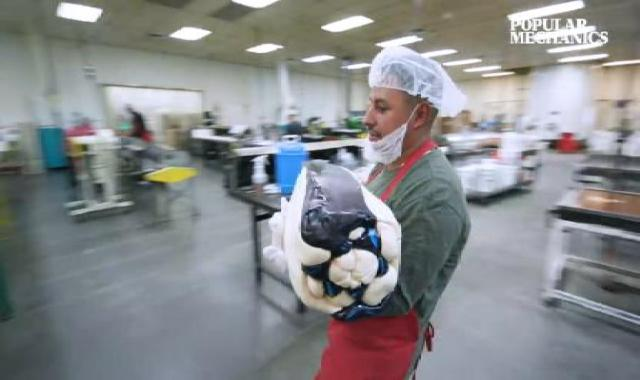hairnet: (362, 42, 470, 122)
